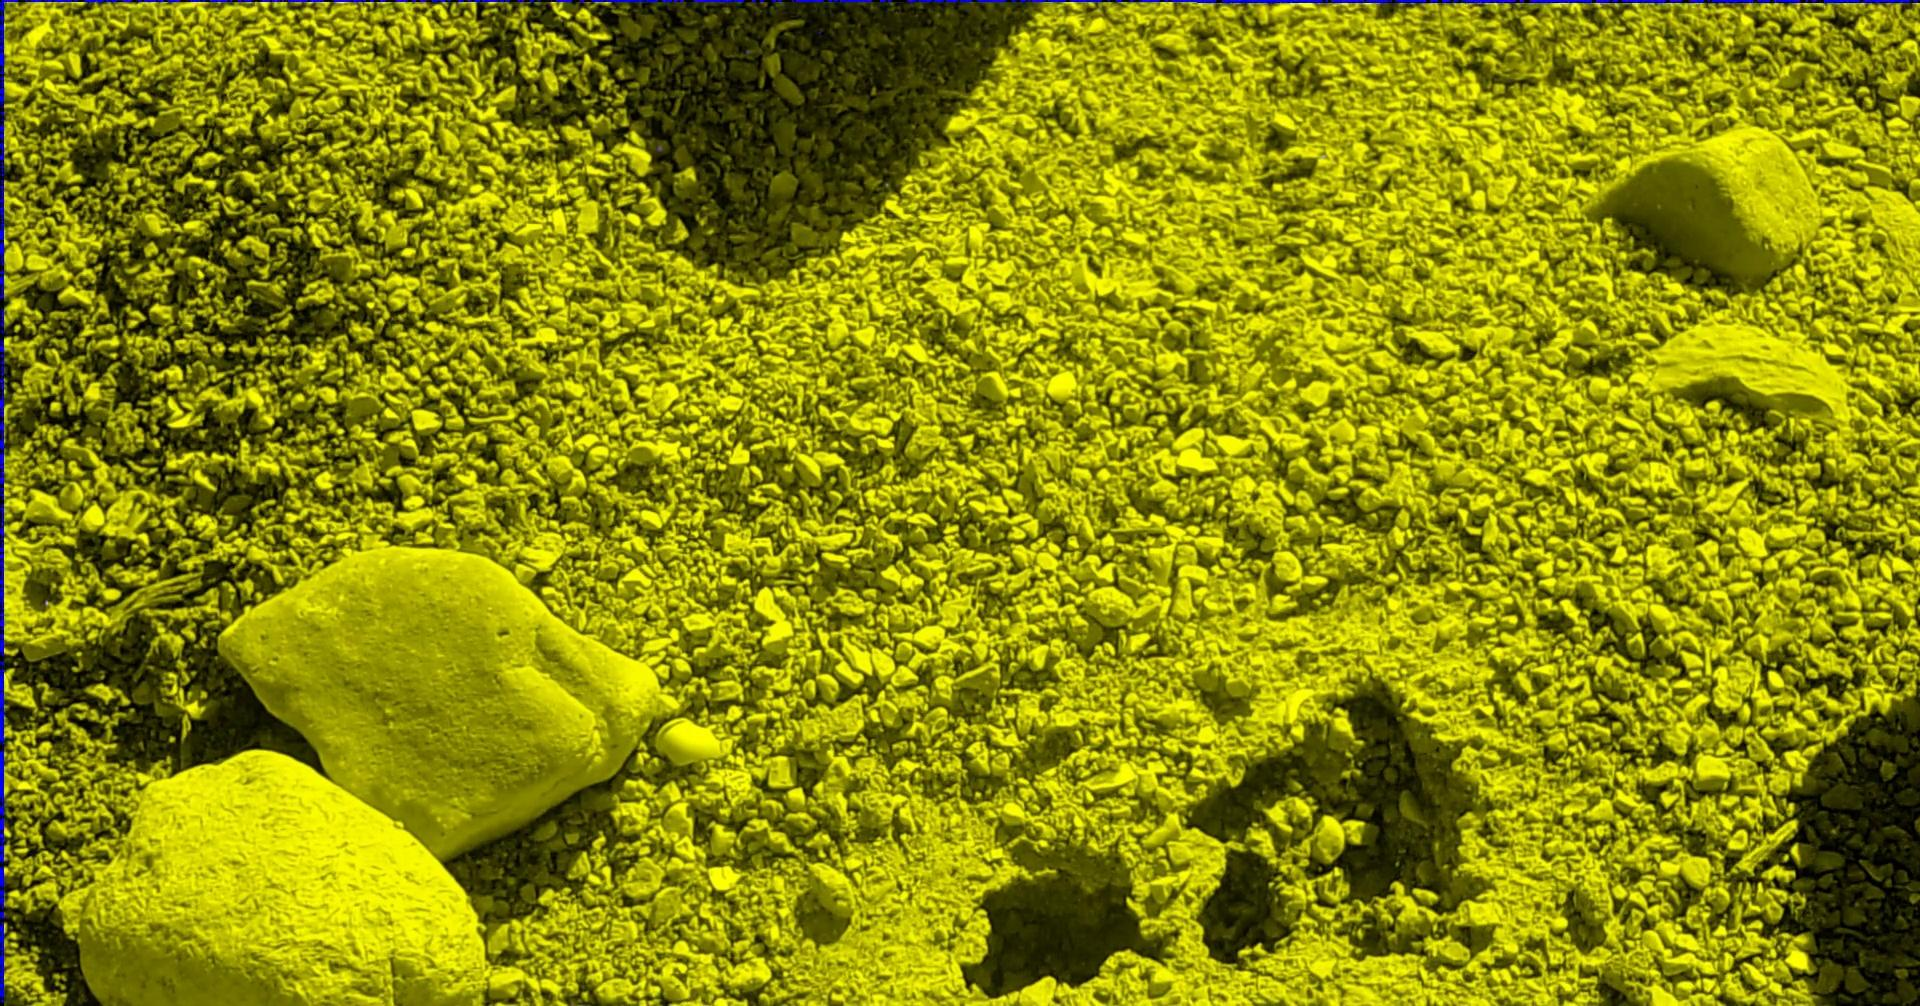ant: (905, 0, 1123, 3), (1688, 0, 1816, 4), (24, 0, 180, 3), (1822, 0, 1919, 4), (590, 0, 684, 3), (790, 0, 872, 3), (258, 0, 324, 3), (188, 0, 251, 3), (394, 0, 450, 3), (331, 0, 386, 3), (456, 0, 510, 3), (692, 0, 744, 3)
